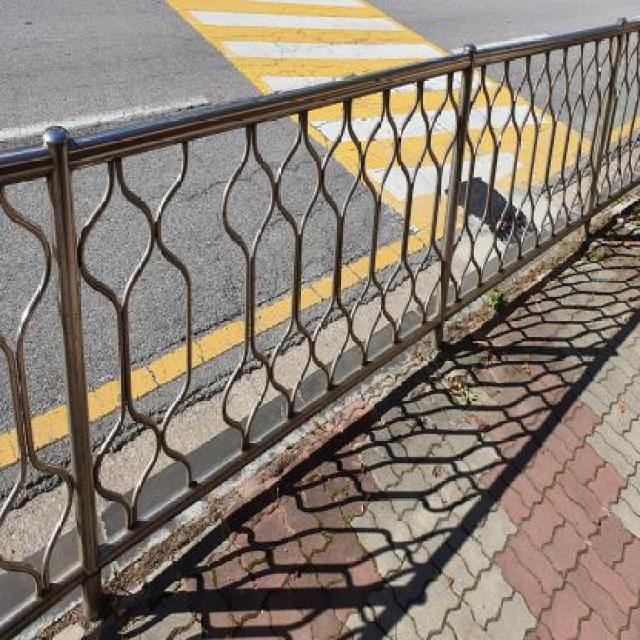fence: (0, 52, 475, 594), (431, 0, 640, 341)
